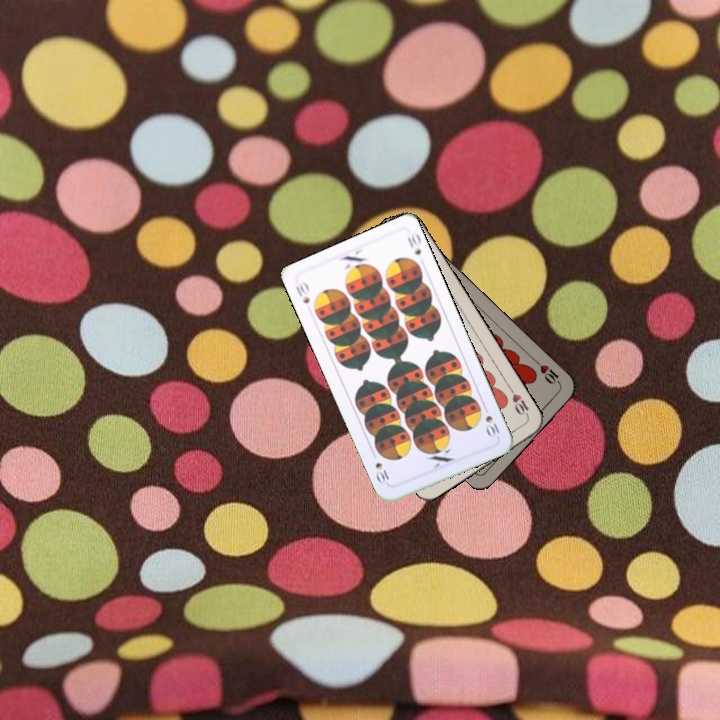H10: (531, 356, 564, 388), (506, 384, 532, 421)
S10: (479, 401, 502, 440), (292, 278, 312, 307)
